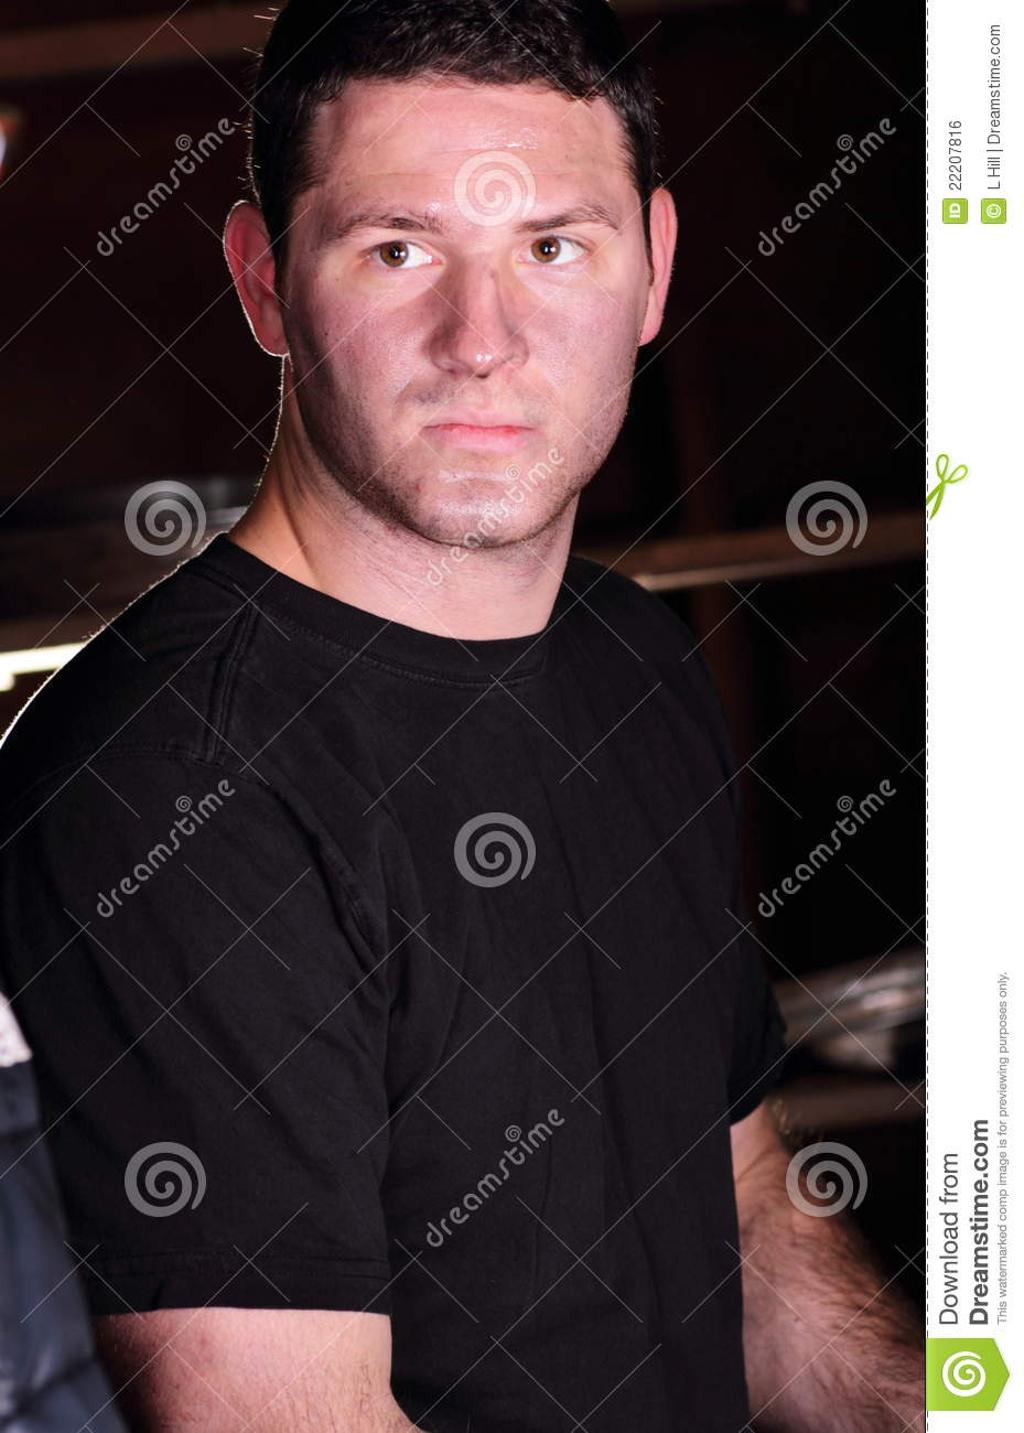face: (316, 87, 643, 529)
